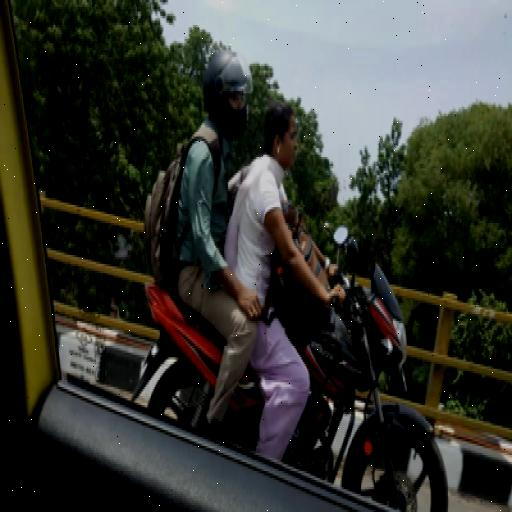no helmet: (228, 30, 439, 442)
